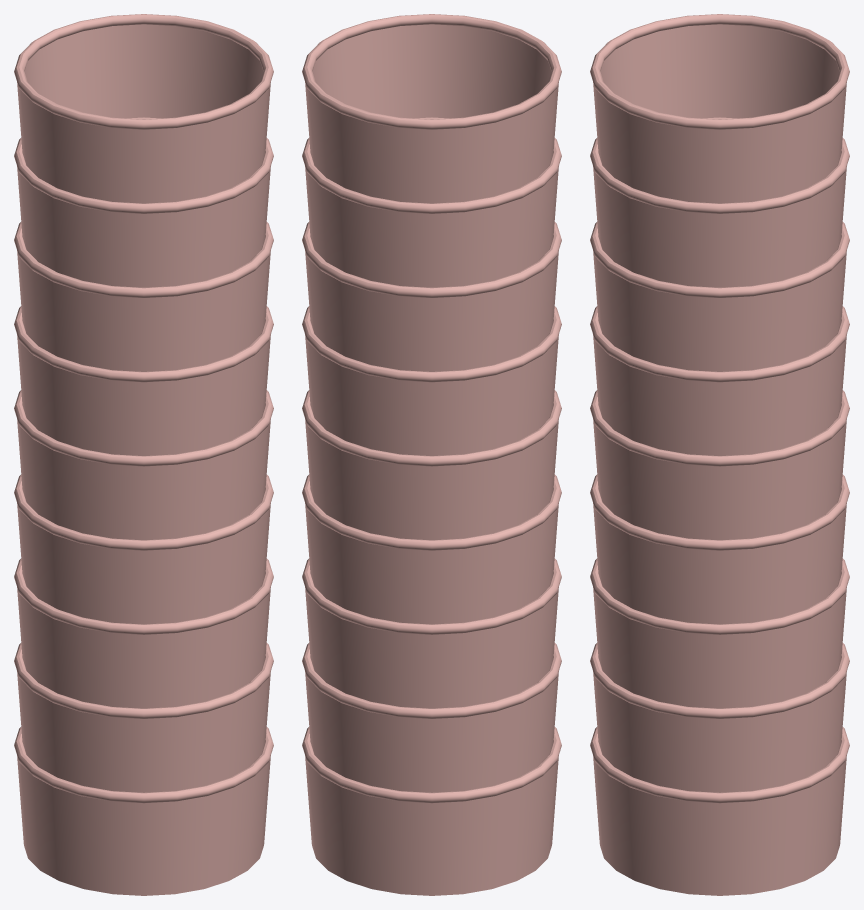
File: ColumnaTarrinas.fbx
3 views of the same model, side by side, from view 1: azimuth 30°, elevation 25°; view 2: azimuth 150°, elevation 25°; view 3: azimuth 270°, elevation 25° (orthographic).
Parts seen in each view (by area): view 1: ColumnaTarrinas; view 2: ColumnaTarrinas; view 3: ColumnaTarrinas.
Part boxes in pixels (x1=…): ColumnaTarrinas: x1=14, y1=14, x2=273, y2=895; ColumnaTarrinas: x1=302, y1=14, x2=561, y2=895; ColumnaTarrinas: x1=590, y1=14, x2=849, y2=895.
Size of the model in its own units: 338 by 1118 by 338.
